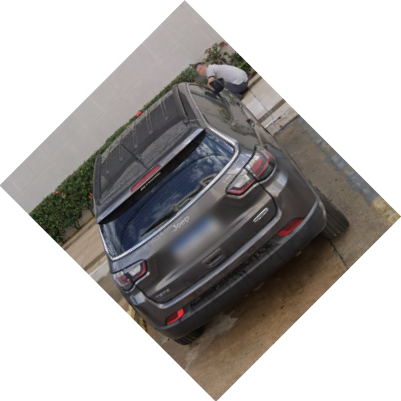car: (82, 80, 351, 332)
